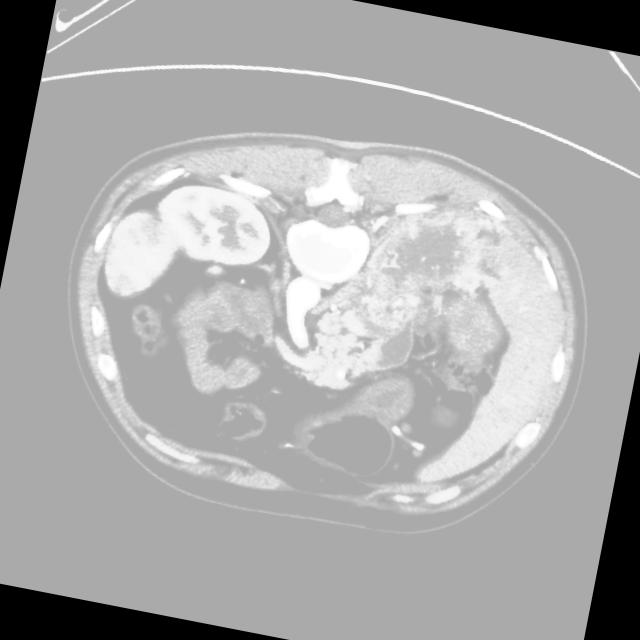TUMOR: (42, 135, 491, 482)
